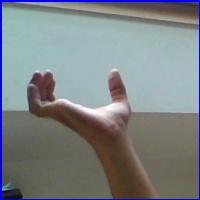B: (20, 61, 137, 157)
